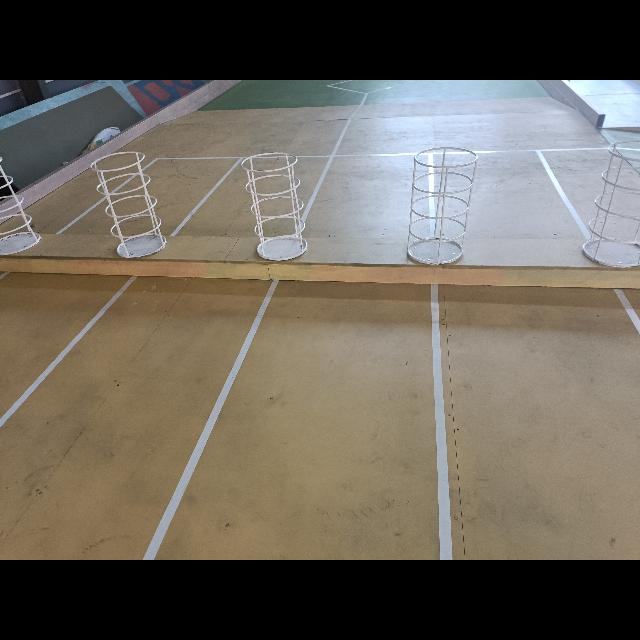S: (404, 146, 478, 266), (90, 149, 167, 259), (240, 150, 306, 266), (582, 140, 640, 268), (0, 150, 46, 256)
